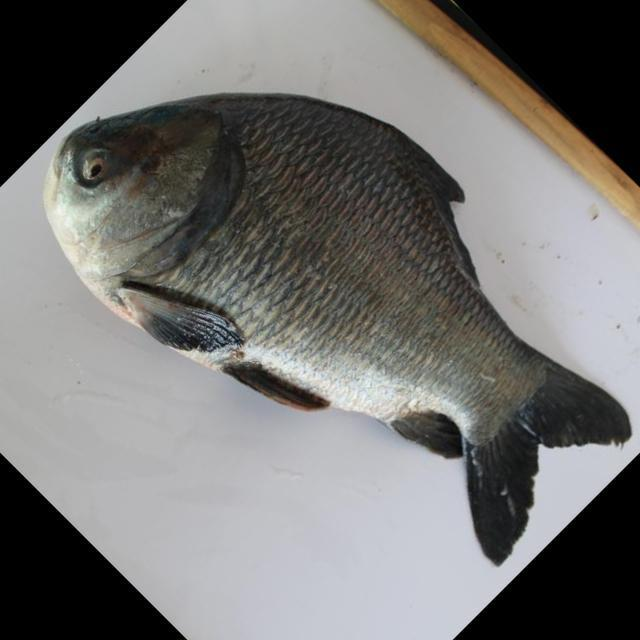Catla: (44, 94, 634, 559)
